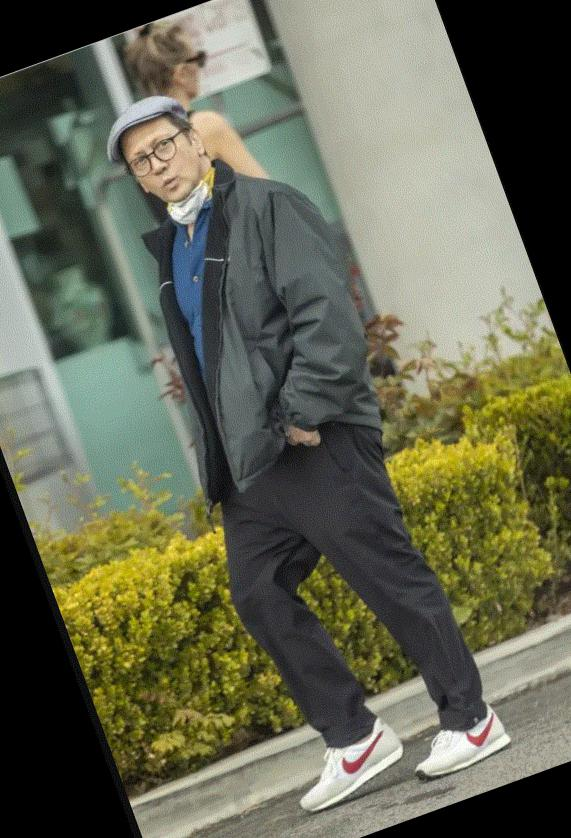mask_weared_incorrect: (122, 122, 219, 223)
